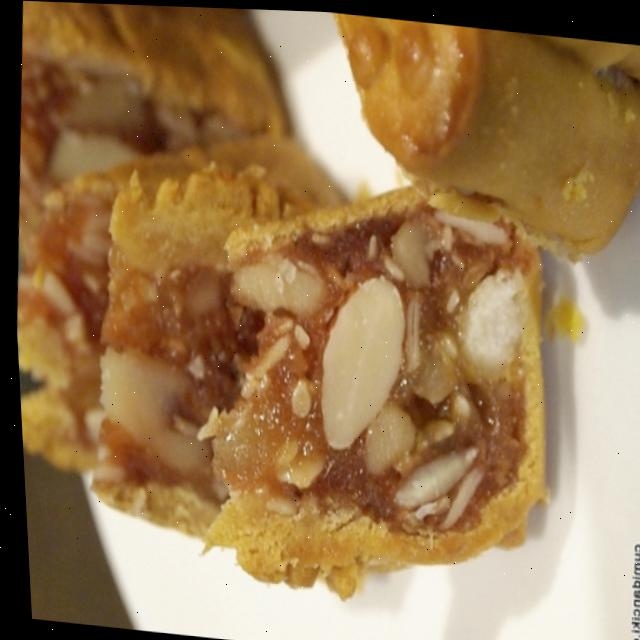蛋糕甜品: (0, 0, 618, 608)
